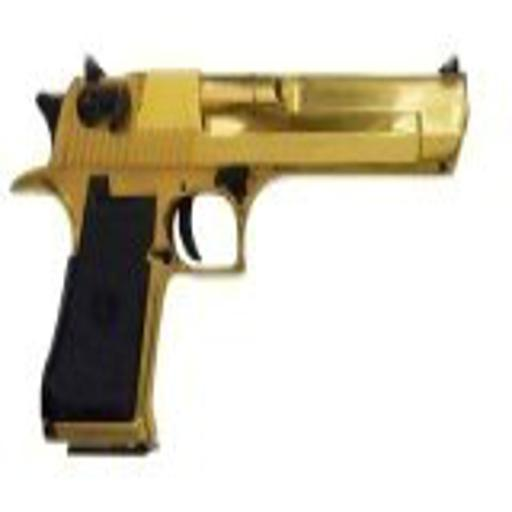Handgun: (8, 45, 475, 464)
